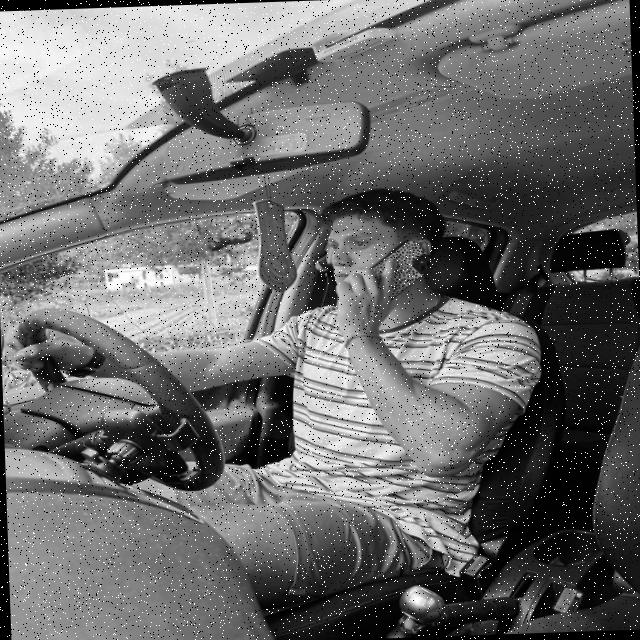Phone: (348, 234, 438, 302)
